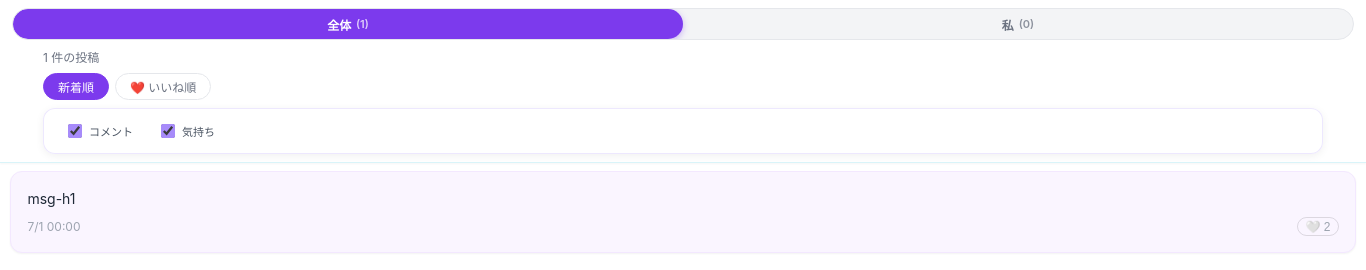
Scenario: LogListBody like mutations › guest increment updates displayed count
Click the button named "いいね".
click(1318, 227)  # box 1297,217 -> 1339,236
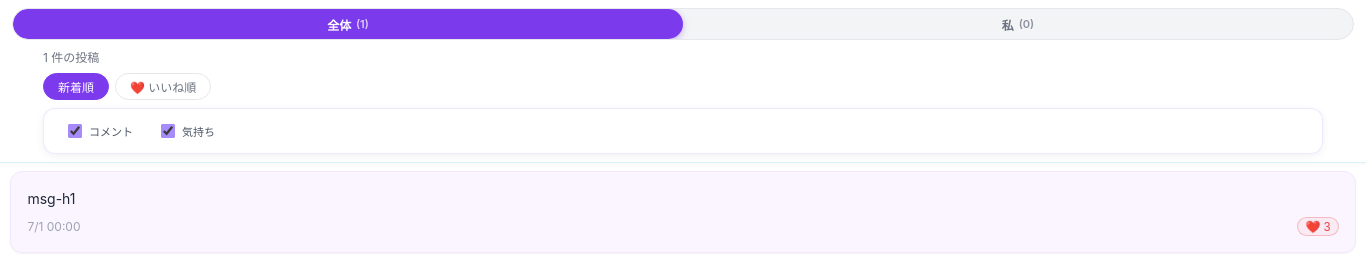
Expected: the button named "いいね" shows "3", 1297,217 -> 1339,236
